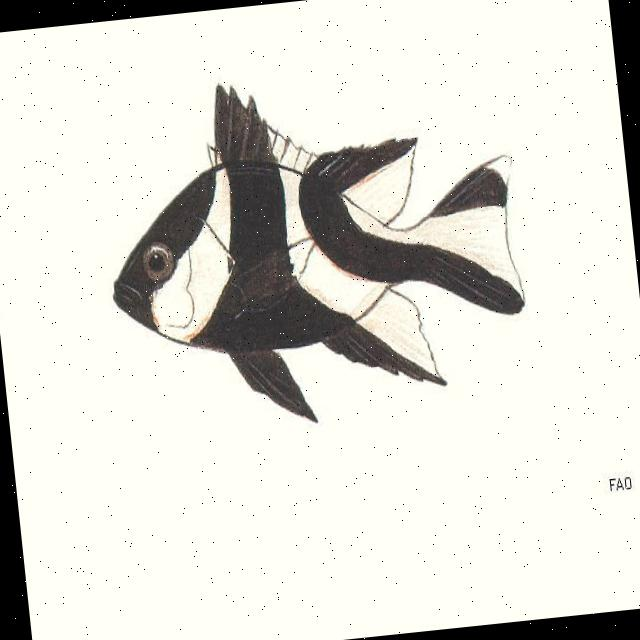ikan: (90, 51, 538, 444)
